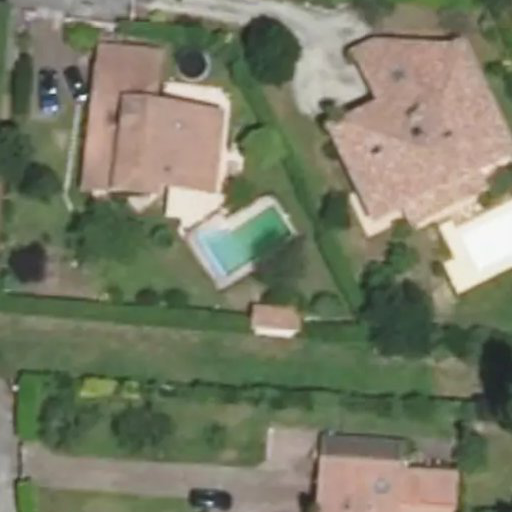pool: (204, 207, 292, 271)
